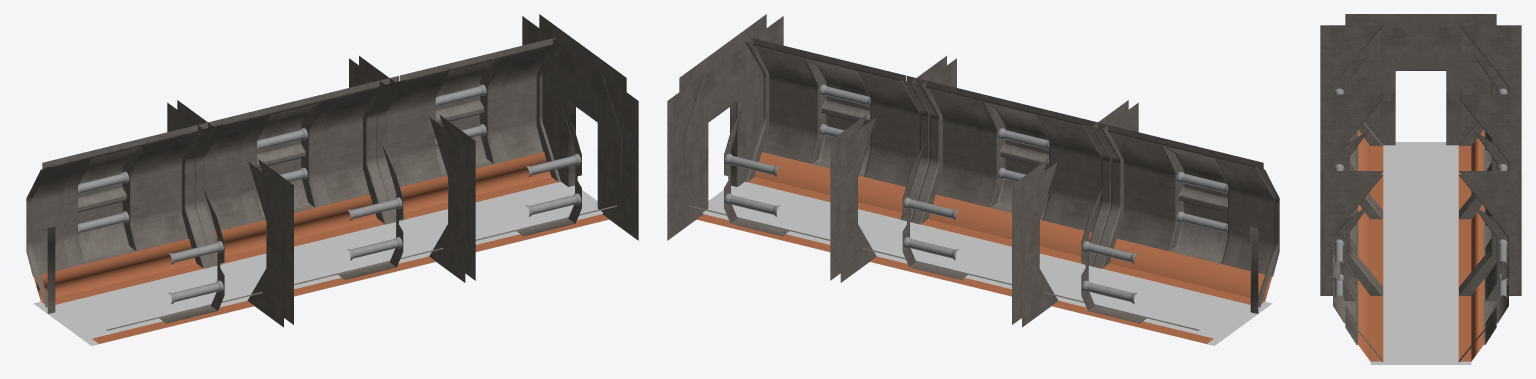
File: HC_room2.gltf
3 views of the same model, side by side, from view 1: azimuth 30°, elevation 25°; view 2: azimuth 150°, elevation 25°; view 3: azimuth 270°, elevation 25° (orthographic). The views are drawn at different scales.
Parts seen in each view (by area): view 1: Tunnel; view 2: Tunnel; view 3: Tunnel.
Part boxes in pixels (x1=…): Tunnel: x1=26, y1=14, x2=638, y2=345; Tunnel: x1=667, y1=14, x2=1279, y2=345; Tunnel: x1=1320, y1=14, x2=1521, y2=364.
Bounding box in the file's own units: 20.94 × 5.75 × 8.
